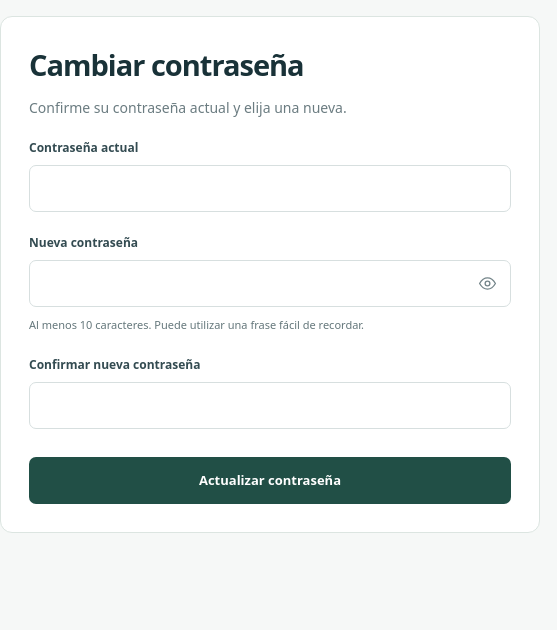
Test: el cambio dentro de la sesión verifica primero la contraseña actual
Type "anterior" into the password field labelled "Contraseña actual" at (270, 188), box [29, 165, 511, 212]
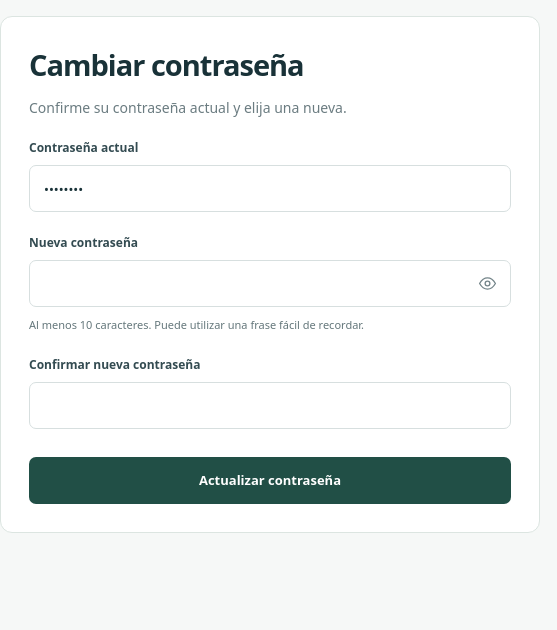
Type "Frase privada 2026!" into the password field labelled "Nueva contraseña" at (270, 284), box [29, 260, 511, 307]
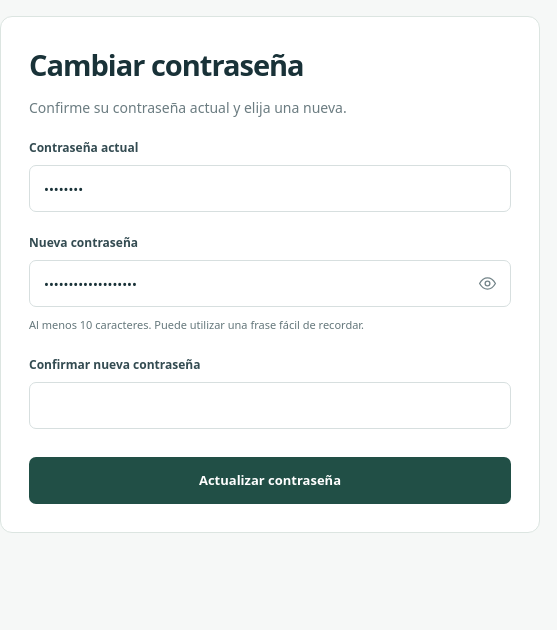
Type "Frase privada 2026!" into the password field labelled "Confirmar nueva contraseña" at (270, 405), box [29, 382, 511, 429]
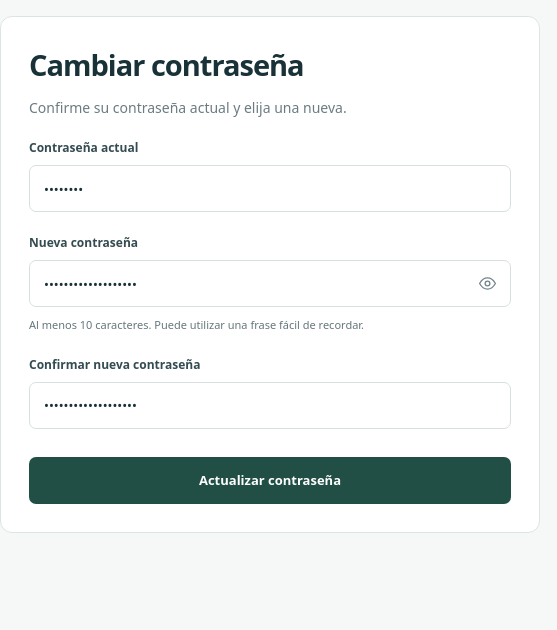
Click the button "Actualizar contraseña" at (270, 480), box [29, 457, 511, 504]
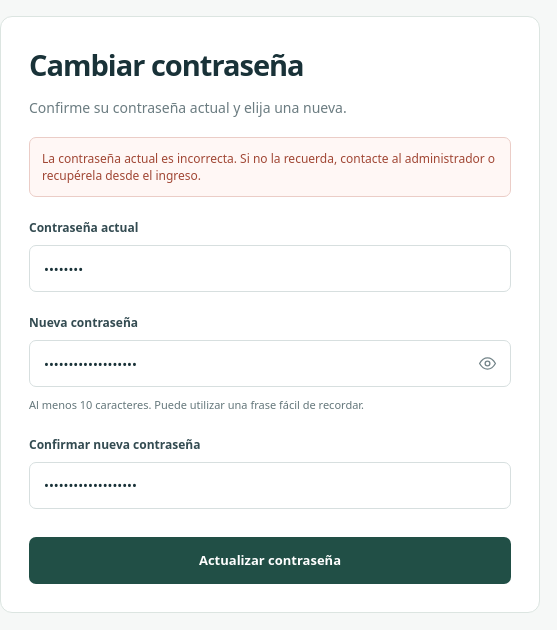
expect the message shows "contraseña actual es incorrecta": met, box [42, 150, 495, 184]
